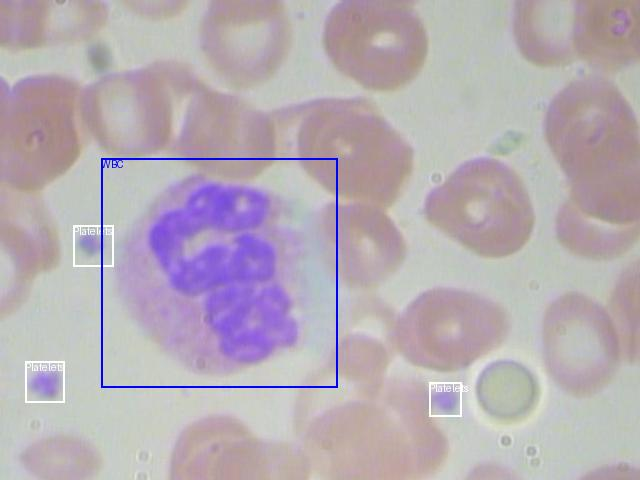Platelets: (73, 225, 113, 266), (25, 361, 64, 402), (429, 382, 461, 416)
WBC: (101, 158, 337, 387)
